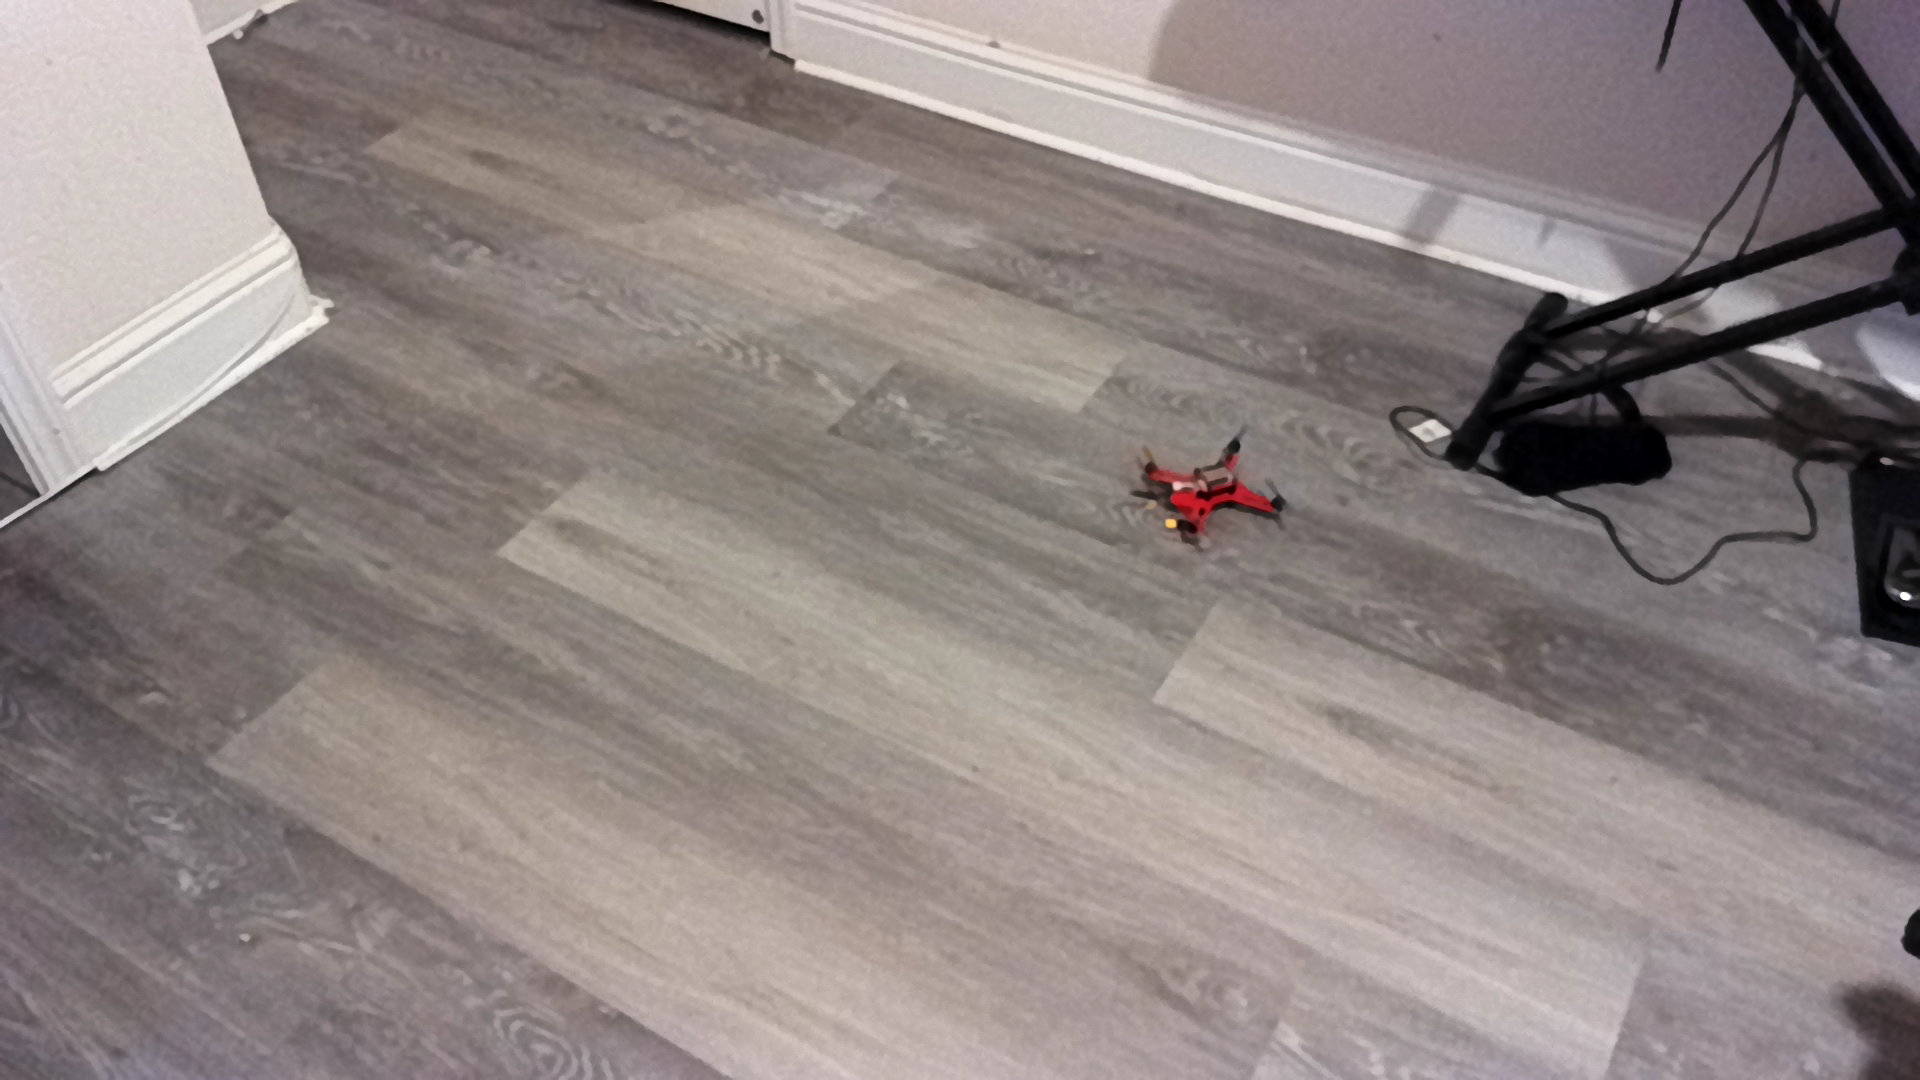drone: (1122, 425, 1319, 564)
